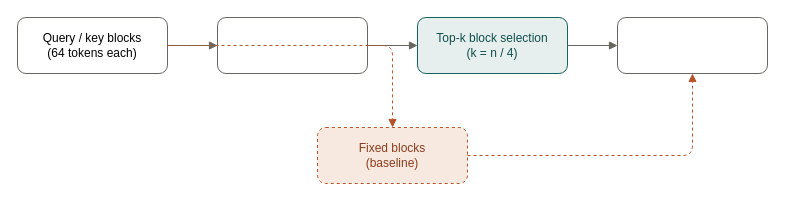
This 785x201 diagram has some shape labels left out. The centre of each missing label's shape, as x and y in pixels:
"Block scores (mean-pooled keys)" belongs at (x=292, y=45).
"Block-sparse attention" belongs at (x=692, y=45).
